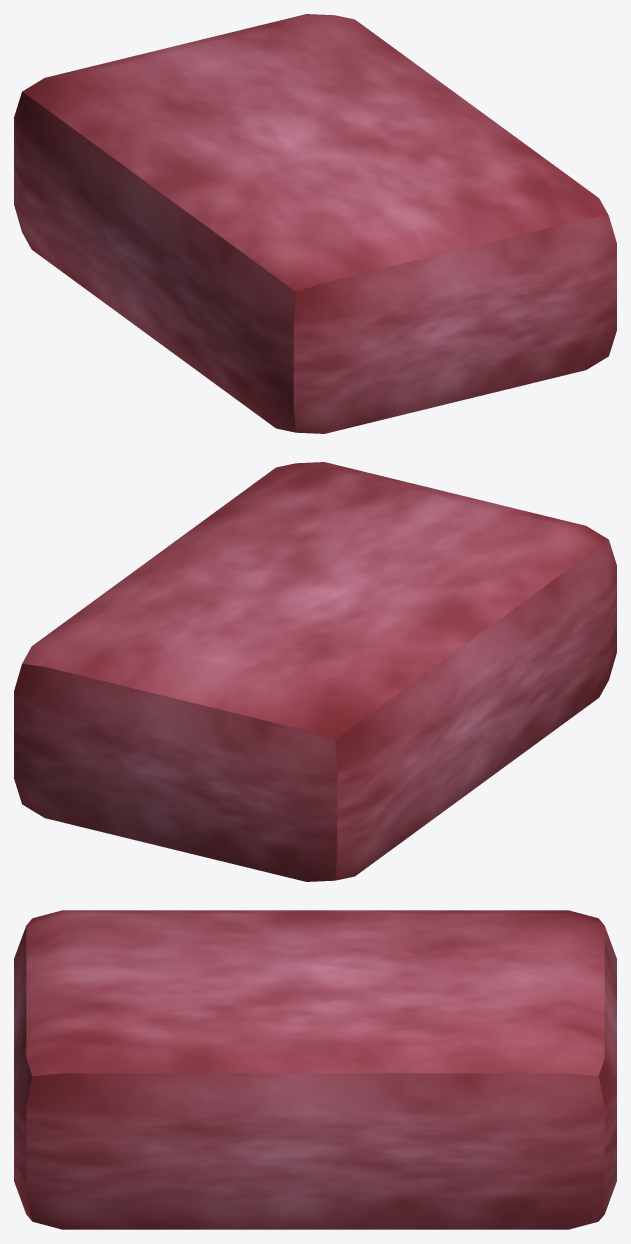
The model's file is brick_2.fbx.
3 views of the same model, one above another, from view 1: azimuth 30°, elevation 25°; view 2: azimuth 150°, elevation 25°; view 3: azimuth 270°, elevation 25° (orthographic). The views are drawn at different scales.
Parts seen in each view (by area): view 1: brick; view 2: brick; view 3: brick.
Boxes of the visible parts, x1,y1,x2,y2 form: brick: [14, 14, 616, 433]; brick: [14, 462, 616, 881]; brick: [14, 910, 616, 1229].
Size of the model in its own units: 23.62 by 11.34 by 34.71.
1 material, 1 textured.
